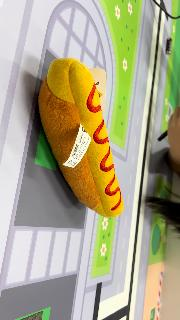hotdog: (38, 58, 124, 218)
